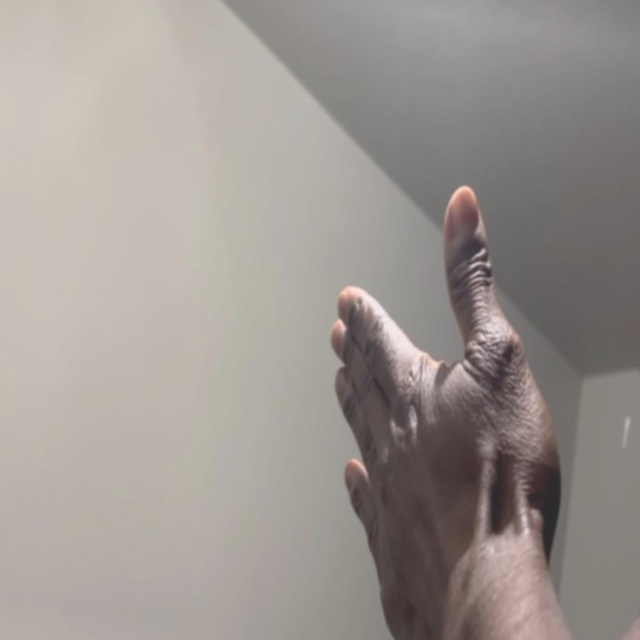Paper: (280, 165, 609, 640)
